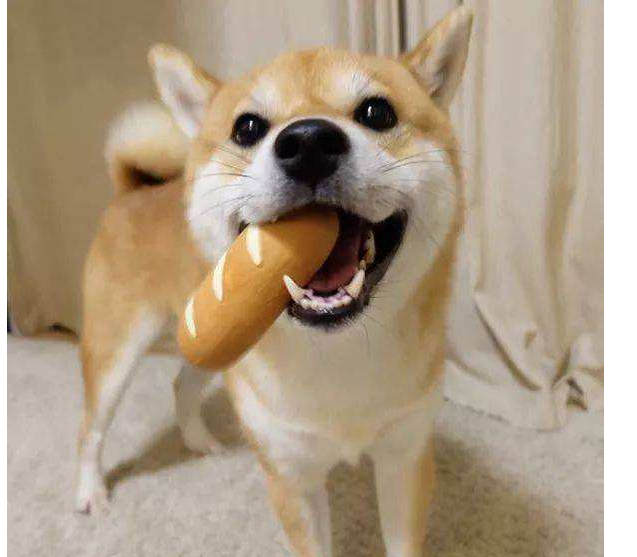nose: (273, 124, 355, 177)
